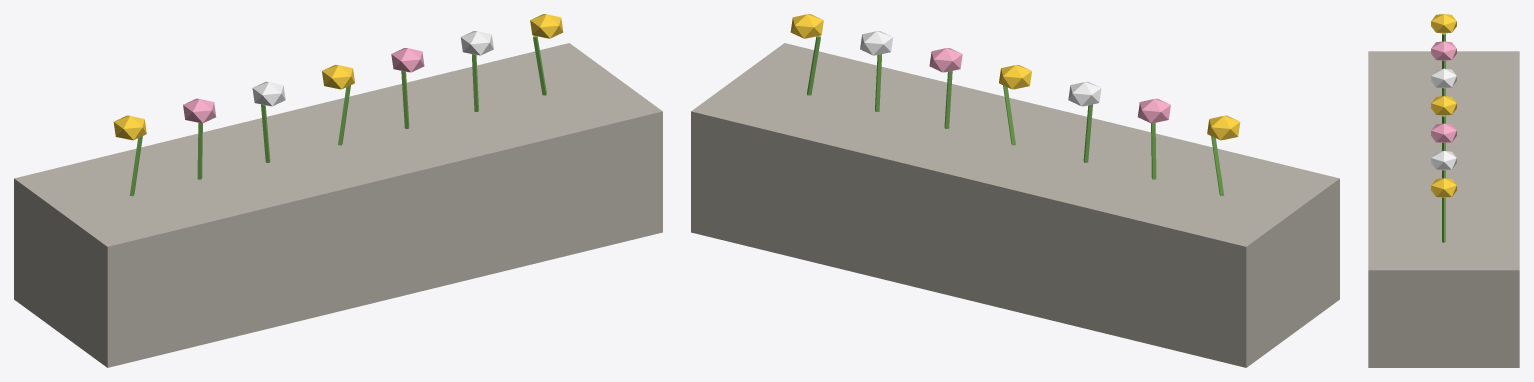
Rendered from Planter.fbx.
3 views of the same model, side by side, from view 1: azimuth 30°, elevation 25°; view 2: azimuth 150°, elevation 25°; view 3: azimuth 270°, elevation 25° (orthographic). The views are drawn at different scales.
Parts seen in each view (by area): view 1: Planter; view 2: Planter; view 3: Planter.
Boxes of the visible parts, x1,y1,x2,y2 form: Planter: [14, 14, 662, 367]; Planter: [691, 14, 1339, 367]; Planter: [1368, 14, 1519, 367].
Size of the model in its own units: 2.4 by 0.83 by 0.7.
